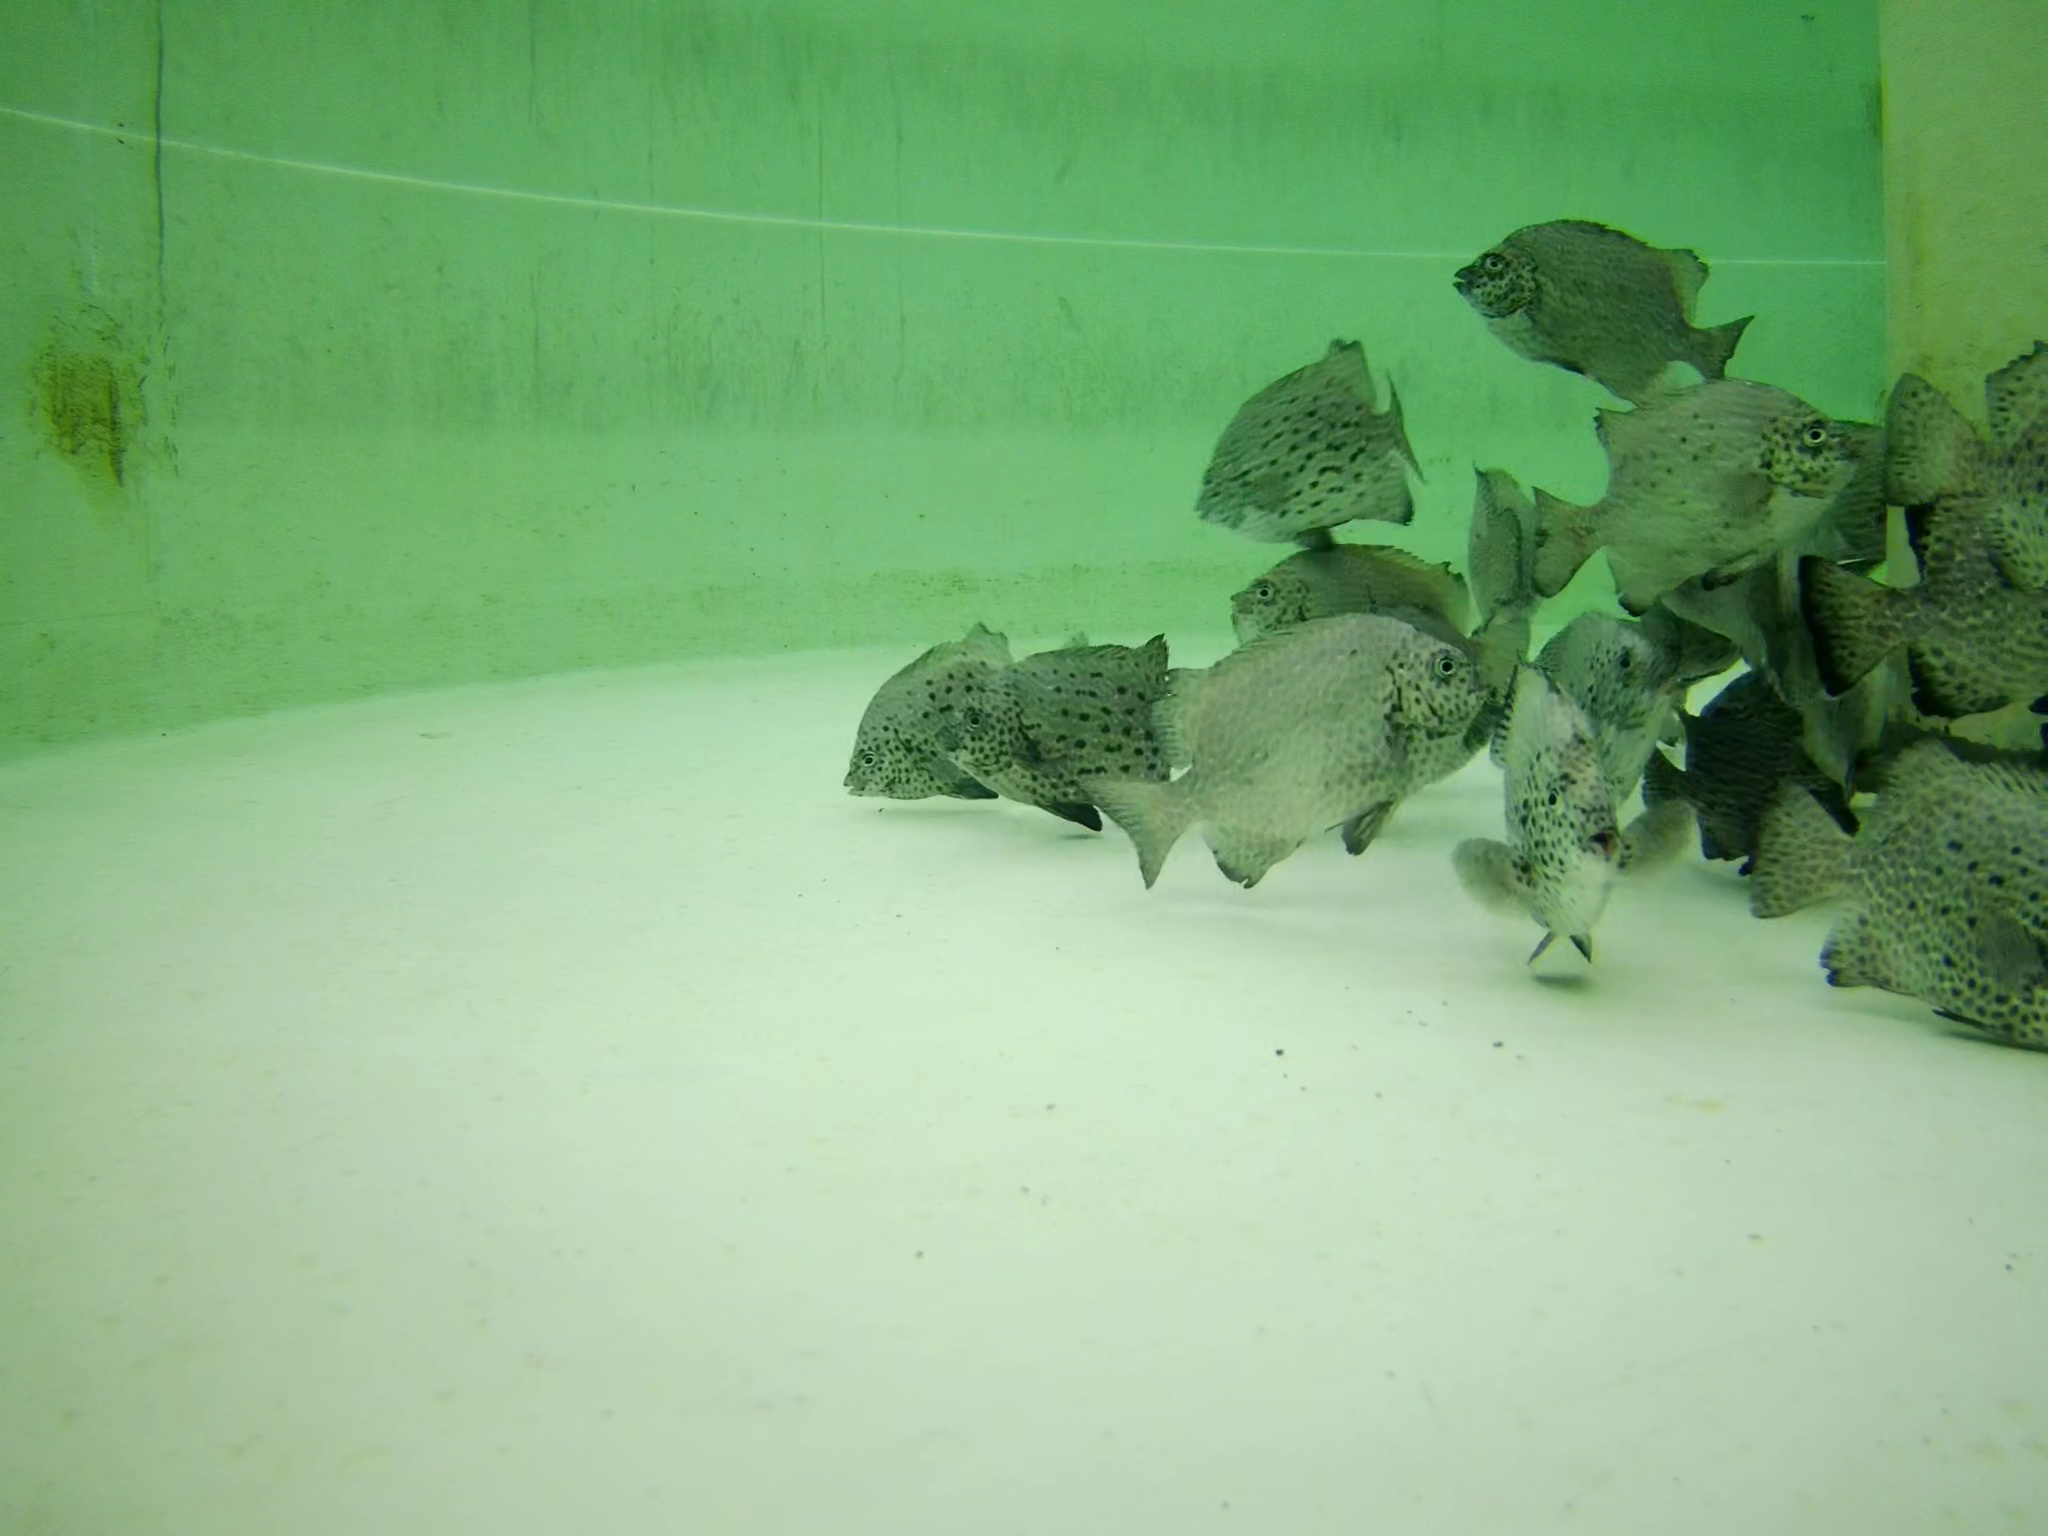fish: (1082, 621, 1485, 889), (1763, 736, 2048, 1050), (1514, 365, 1843, 592), (1793, 495, 2048, 723), (1450, 208, 1764, 387), (1187, 344, 1421, 536), (1484, 665, 1625, 979), (1882, 331, 2048, 579), (821, 632, 1040, 810), (951, 636, 1174, 803), (1527, 616, 1685, 849), (1218, 541, 1476, 679), (1667, 694, 1837, 892), (1459, 463, 1545, 649)
